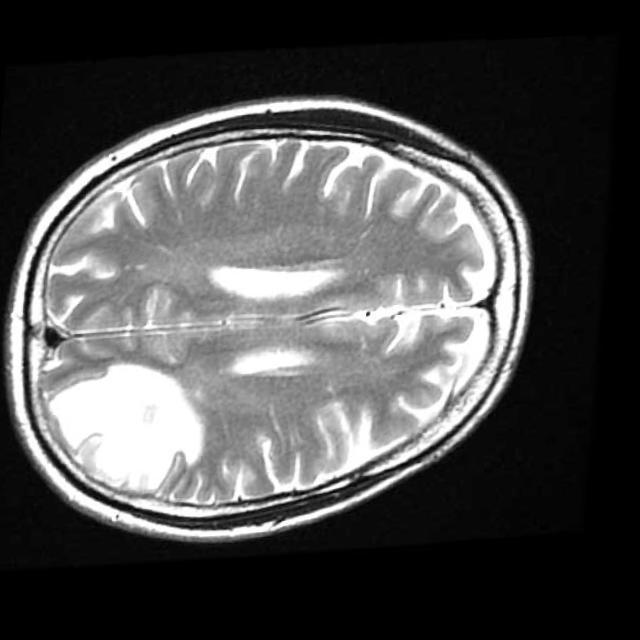Tumor: (59, 367, 205, 492)
